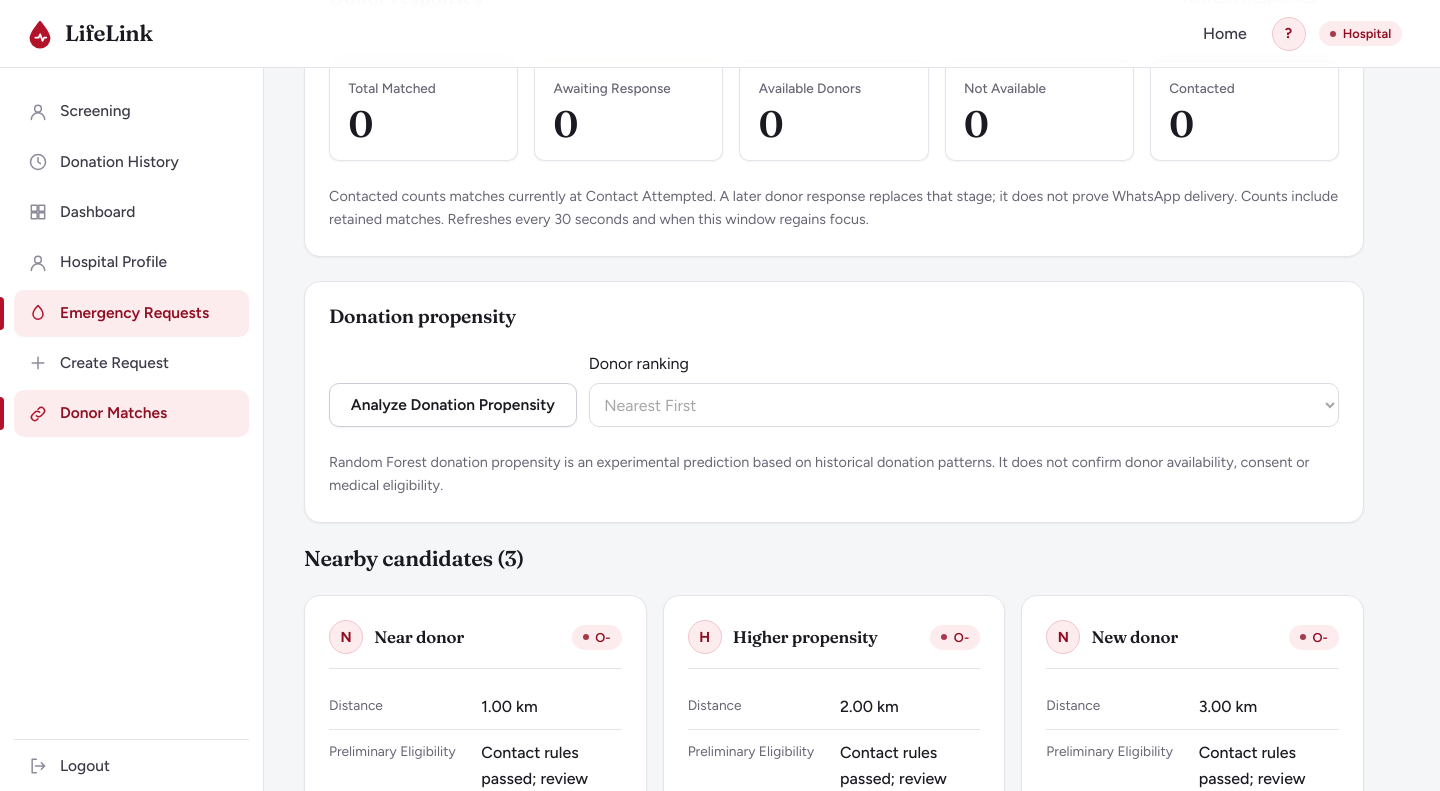
Test: highest propensity shows scored ranking and a separate visible unscored section
(page scrolled)
Click the button "Analyze Donation Propensity": (453, 405) [329,383,577,427]
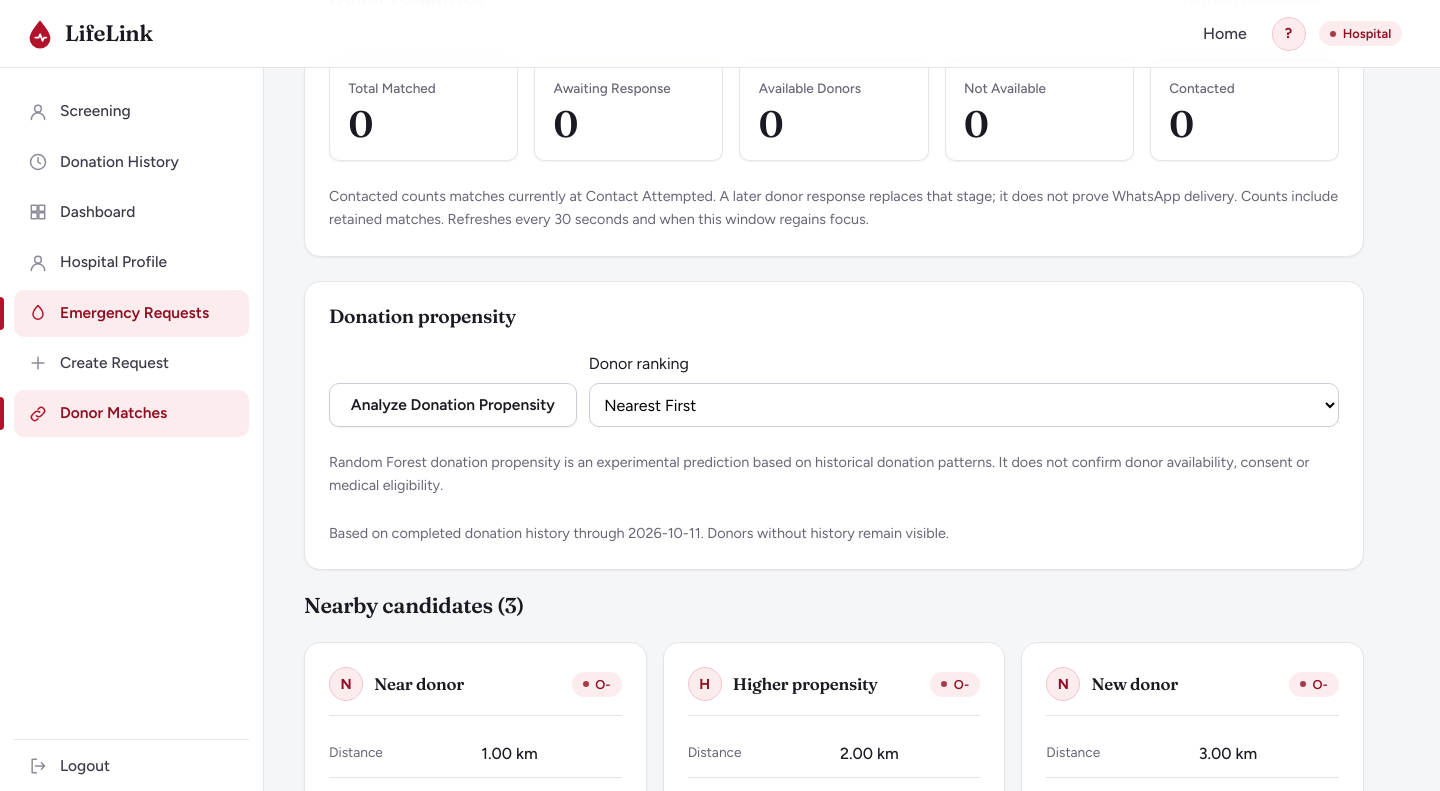
Select "Highest Donation Propensity" in the dropdown labelled "Donor ranking": (964, 405) [589,383,1339,427]
(page scrolled)
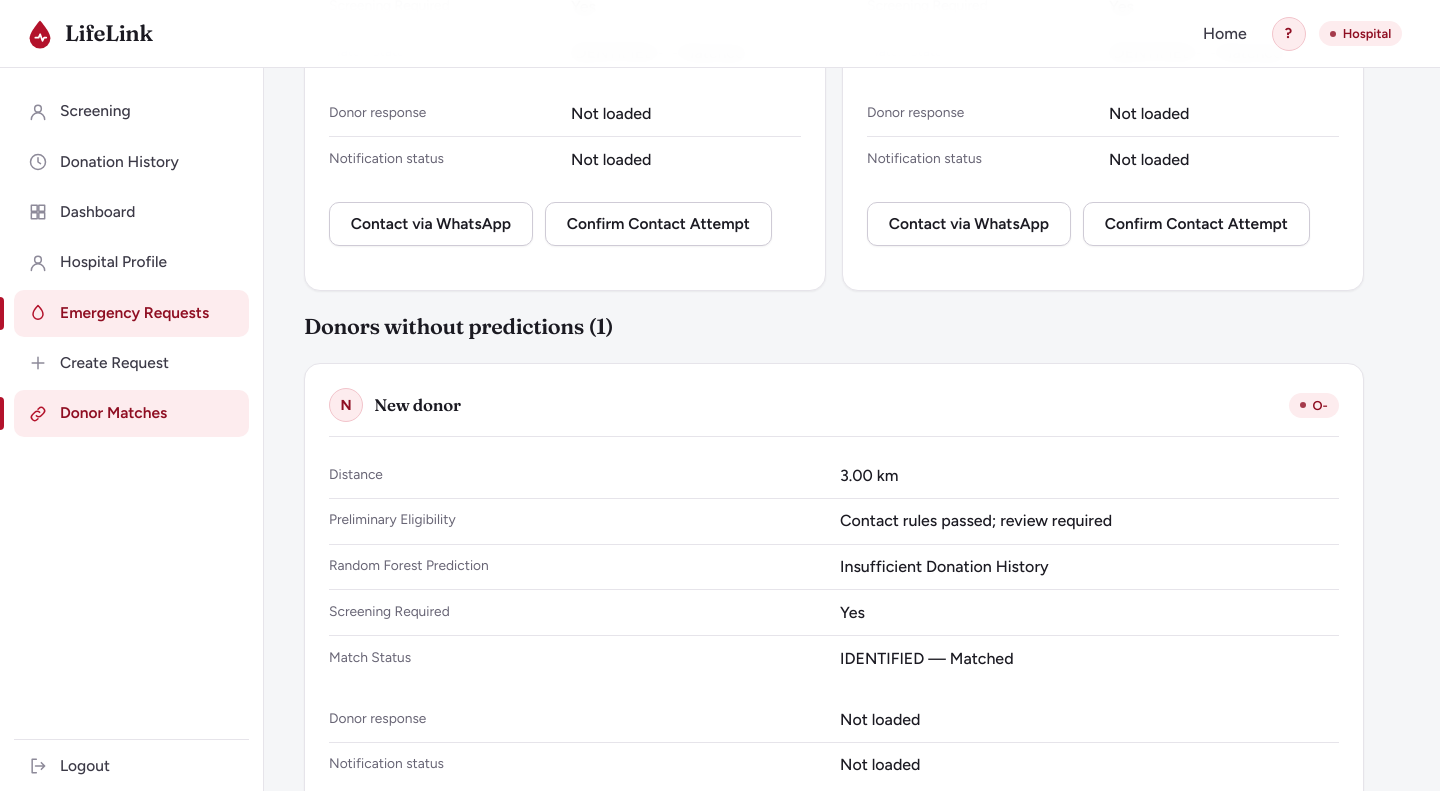
expect the heading "New donor" is shown: met, box [374,396,461,415]
expect the heading "Donors without predictions (1)" is shown: met, box [304,313,613,340]
